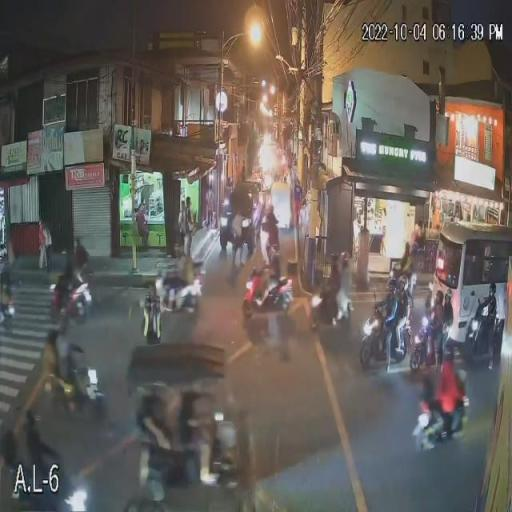helmet: (422, 293, 436, 306), (382, 277, 394, 289), (395, 273, 406, 284), (248, 268, 258, 278)
motorcycle: (38, 338, 106, 415), (412, 382, 472, 453), (360, 292, 410, 372), (242, 266, 295, 338), (48, 262, 94, 328), (408, 306, 446, 379), (308, 271, 351, 334), (155, 268, 206, 314), (142, 283, 162, 345)
rider: (430, 348, 466, 430), (378, 275, 410, 361), (39, 326, 73, 396), (319, 250, 350, 324), (412, 295, 443, 363), (254, 253, 284, 312), (476, 284, 499, 354), (170, 248, 197, 307), (51, 262, 82, 312)
